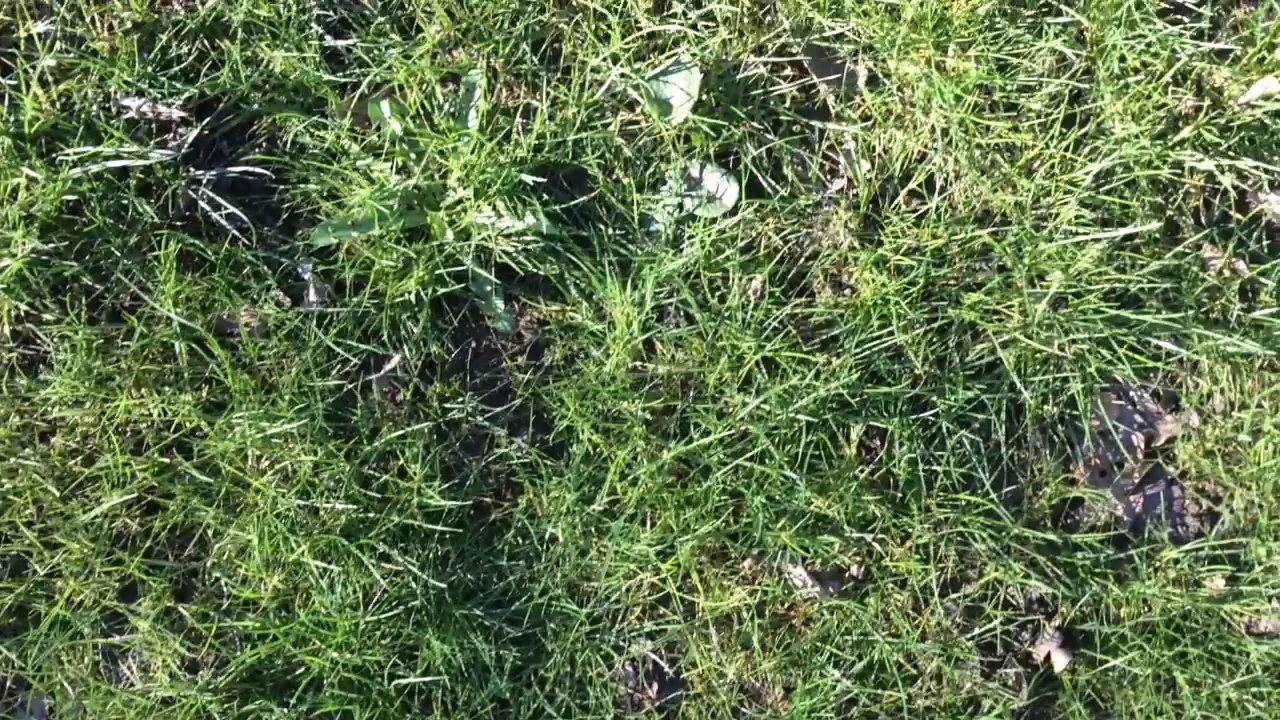rumex: (645, 49, 705, 128), (670, 161, 738, 217)
